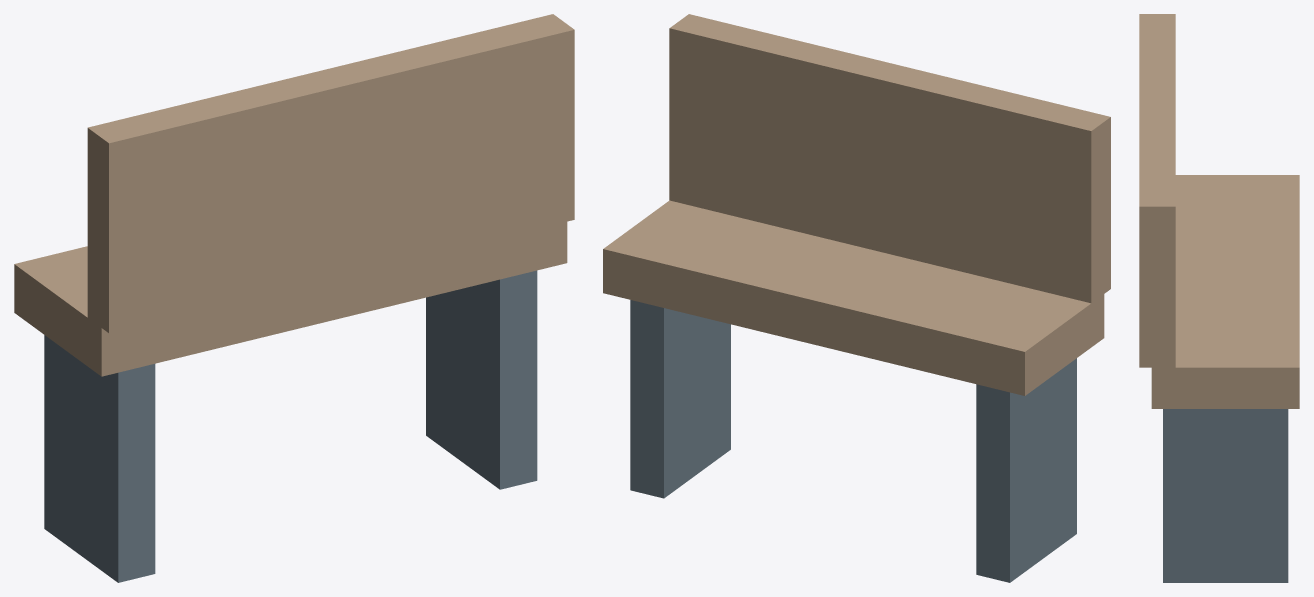
Rendered from bench.glb.
The picture shows the model from 3 angles, left to right: view 1: azimuth 30°, elevation 25°; view 2: azimuth 150°, elevation 25°; view 3: azimuth 270°, elevation 25°; orthographic projection. The views are drawn at different scales.
Parts seen in each view (by area): view 1: wood, frame; view 2: wood, frame; view 3: wood, frame.
Part boxes in pixels (x1=…): wood: x1=14, y1=14, x2=574, y2=376; frame: x1=44, y1=270, x2=537, y2=582; wood: x1=603, y1=14, x2=1110, y2=395; frame: x1=630, y1=300, x2=1076, y2=582; wood: x1=1139, y1=14, x2=1299, y2=408; frame: x1=1163, y1=409, x2=1288, y2=582.
Size of the model in its own units: 2 by 1.87 by 0.705.
